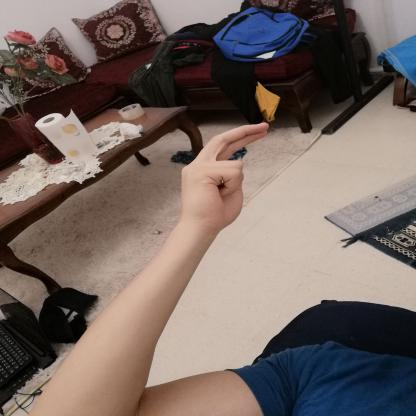ZAY: (174, 117, 280, 236)
